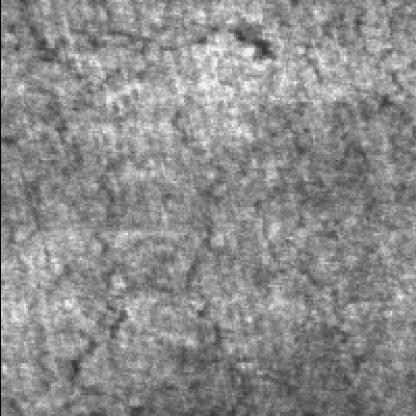crazing: (40, 114, 212, 416), (11, 10, 274, 96)
